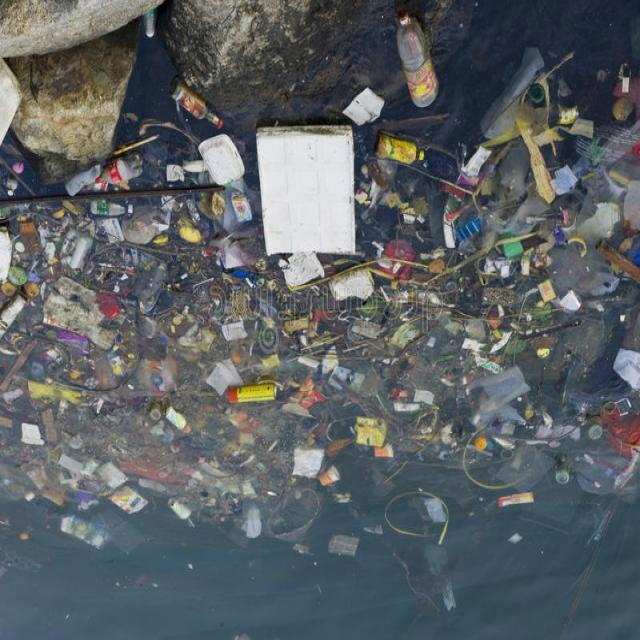Glass: (167, 82, 226, 131)
Metal: (227, 379, 281, 409), (64, 160, 103, 201), (460, 141, 492, 181), (500, 488, 538, 512), (294, 347, 321, 379), (170, 493, 197, 524)
Plastic: (478, 44, 551, 138), (563, 128, 640, 190), (393, 11, 441, 110), (374, 134, 431, 166), (93, 155, 145, 188), (163, 405, 191, 438), (91, 200, 131, 222)
Trash: (255, 121, 353, 257), (41, 270, 108, 335), (572, 441, 640, 502), (17, 368, 96, 411), (198, 134, 247, 190), (480, 364, 535, 412), (610, 59, 640, 129), (580, 200, 620, 251), (344, 82, 386, 129), (452, 211, 492, 259), (328, 264, 377, 302), (56, 513, 109, 548), (279, 252, 327, 288), (610, 342, 640, 396), (109, 481, 149, 518), (541, 160, 577, 200), (287, 443, 326, 479), (392, 385, 434, 417), (352, 414, 386, 453), (0, 292, 24, 340), (220, 313, 249, 351), (385, 320, 422, 349), (241, 496, 263, 540), (231, 186, 254, 226), (423, 496, 449, 530), (327, 531, 359, 558), (561, 287, 583, 317), (21, 422, 45, 449), (0, 231, 11, 287), (536, 280, 557, 305), (319, 463, 338, 488)
